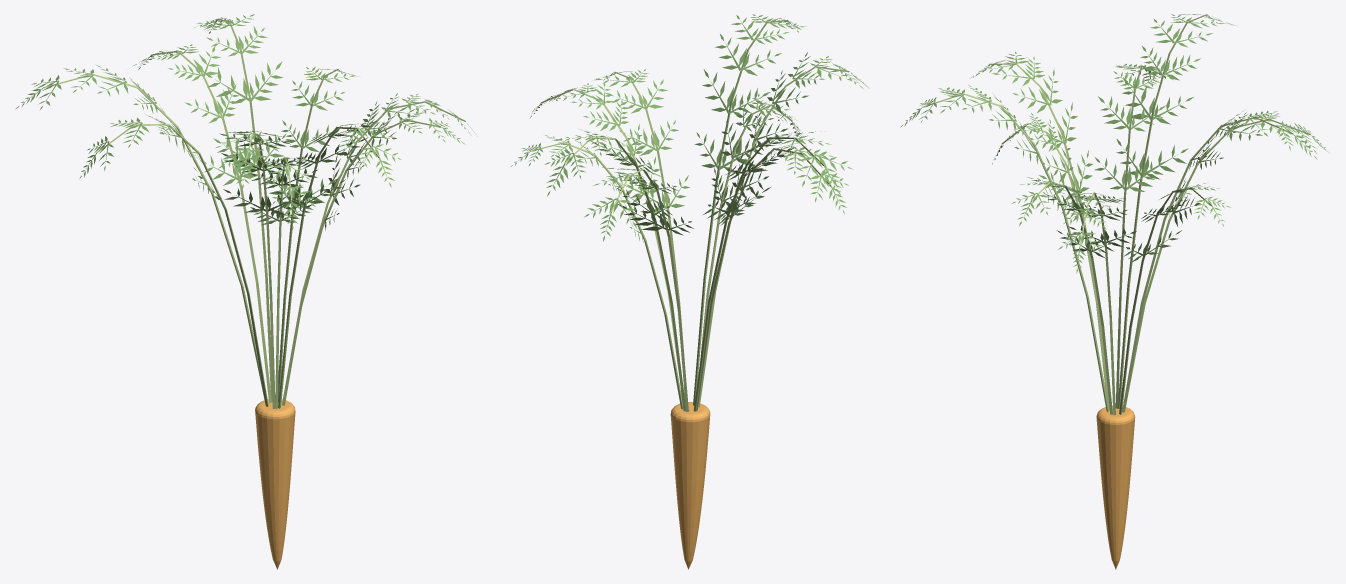
Rendered from carrot_v21.glb.
3 views of the same model, side by side, from view 1: azimuth 30°, elevation 25°; view 2: azimuth 150°, elevation 25°; view 3: azimuth 270°, elevation 25° (orthographic). The views are drawn at different scales.
Parts seen in each view (by area): view 1: leaves, petioles, root; view 2: leaves, petioles, root; view 3: leaves, petioles, root.
Part boxes in pixels (x1=…): leaves: x1=15, y1=14, x2=477, y2=230; petioles: x1=43, y1=19, x2=465, y2=408; root: x1=255, y1=399, x2=295, y2=569; leaves: x1=511, y1=14, x2=869, y2=242; petioles: x1=530, y1=19, x2=849, y2=411; root: x1=670, y1=402, x2=710, y2=569; leaves: x1=900, y1=14, x2=1329, y2=273; petioles: x1=922, y1=14, x2=1310, y2=415; root: x1=1096, y1=405, x2=1135, y2=569.
Size of the model in its own units: 0.393 by 0.4829 by 0.3938.
